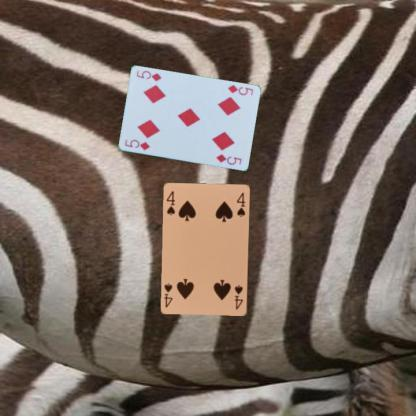4s: (232, 282, 244, 311), (164, 188, 176, 217)
5d: (122, 136, 151, 152), (224, 82, 254, 96)
